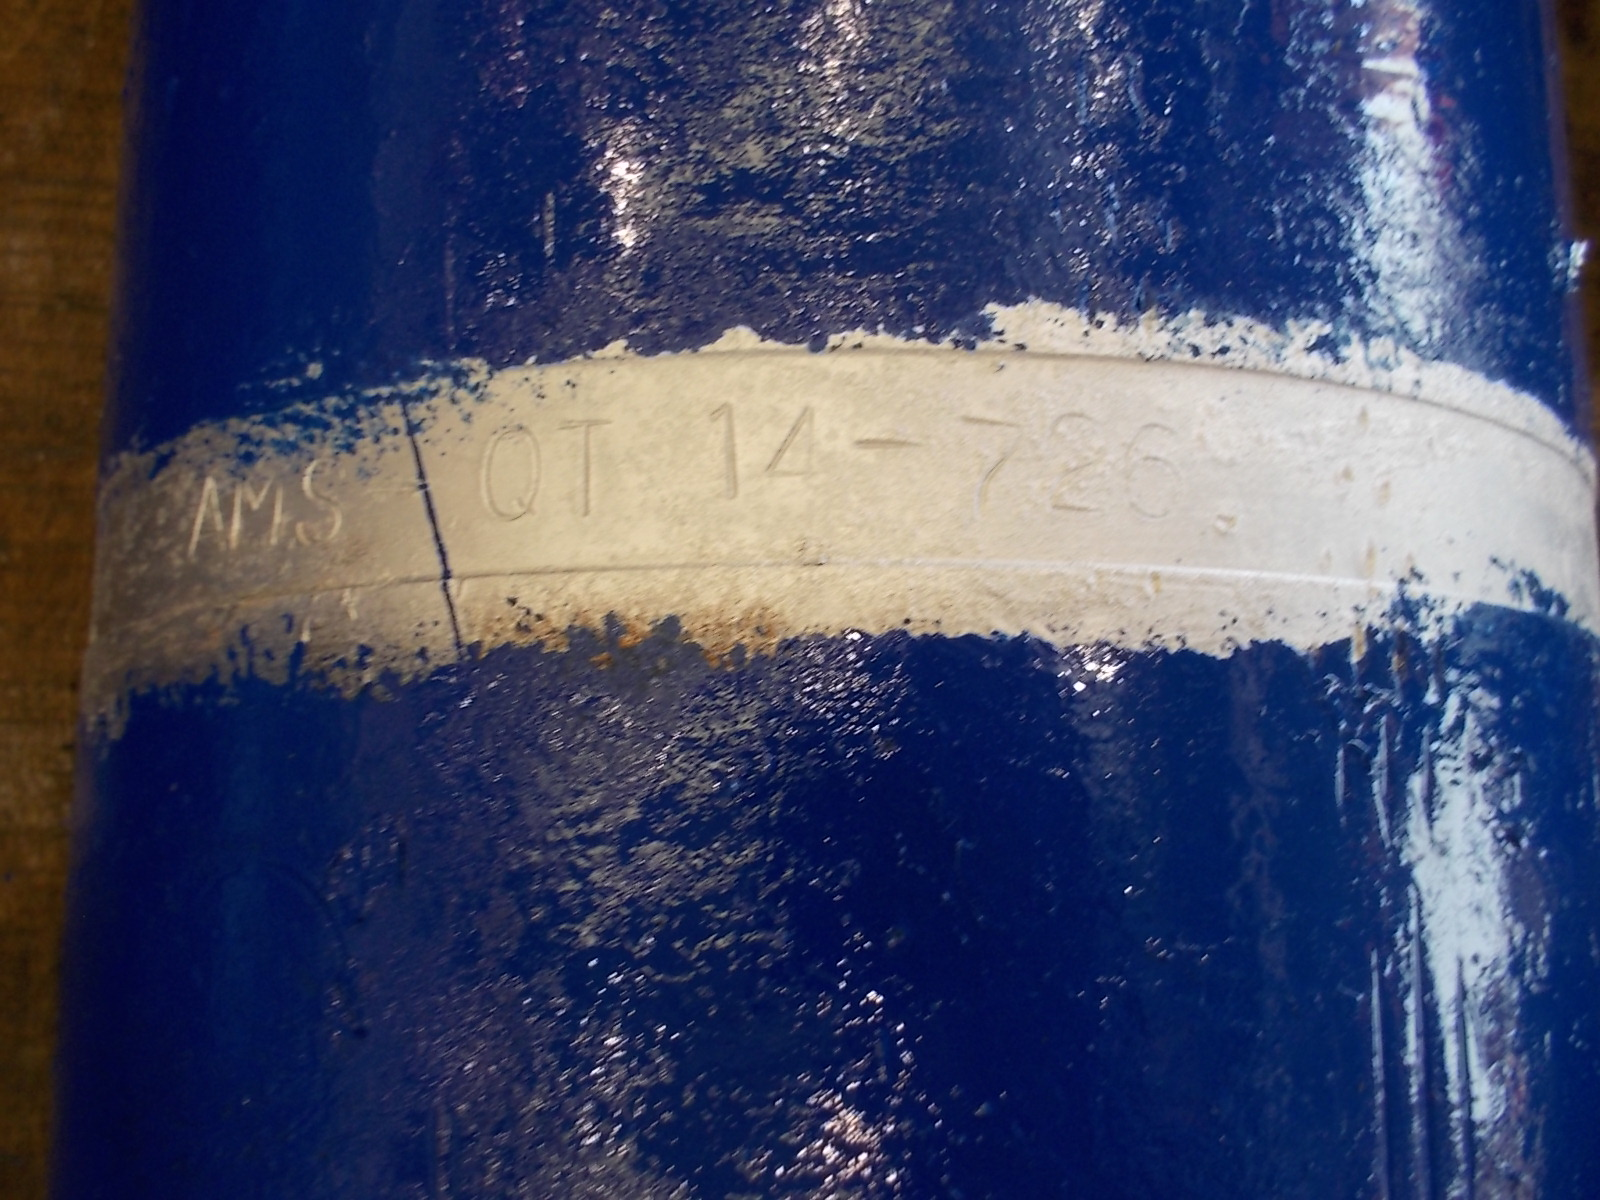character: (1024, 407, 1116, 527), (946, 402, 1024, 527), (460, 418, 551, 524), (753, 400, 831, 513), (842, 424, 946, 503), (551, 407, 617, 527), (1116, 407, 1180, 527), (289, 446, 355, 560), (689, 400, 753, 513), (226, 463, 290, 558), (173, 468, 226, 558), (359, 469, 425, 500)
